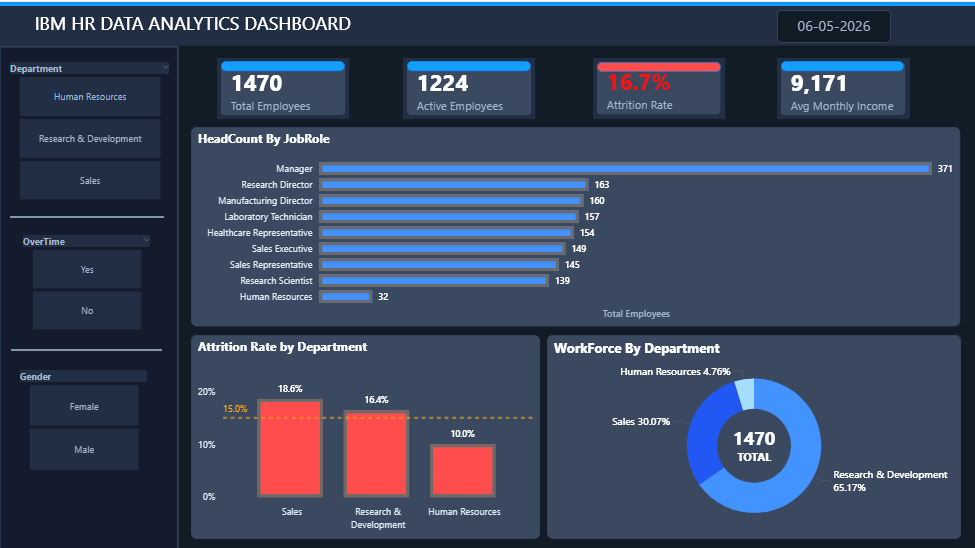

What the dashboard file says about the page in this screenshot:
{"tool":"powerbi","page":{"name":"Page 1","canvas":[1280,720],"ordinal":0},"visuals":[{"type":"donutChart","title":"WorkForce By Department","fields":{"Category":["IBM_HR_Analytics.Department"],"Y":["IBM_HR_Analytics.Total Employees"]},"box":[717,437,542,267],"z":0},{"type":"clusteredBarChart","title":"HeadCount By JobRole","fields":{"Category":["IBM_HR_Analytics.JobRole"],"Y":["IBM_HR_Analytics.Total Employees"]},"box":[251.8,165.5,1007.3,260.9],"z":1000},{"type":"clusteredColumnChart","fields":{"Category":["IBM_HR_Analytics.Department"],"Y":["IBM_HR_Analytics.Attrition Rate"]},"box":[251.8,437.3,457.3,267.3],"z":2000},{"type":"shape","box":[0,0,1280.2,11.5],"z":3000},{"type":"textbox","box":[0,6,1280,52],"z":4000},{"type":"textbox","box":[1018.5,11.8,149.2,43.2],"z":5000},{"type":"textbox","box":[938.6,550,100,70],"z":6000},{"type":"shape","box":[0,58.3,235,661.7],"z":7000},{"type":"cardVisual","fields":{"Data":["IBM_HR_Analytics.Total Employees"]},"box":[285,75,173.3,80],"z":8000},{"type":"shape","box":[290,78.6,162.1,13.6],"z":9000},{"type":"cardVisual","fields":{"Data":["IBM_HR_Analytics.Active Employees"]},"box":[528.3,75,173.3,80],"z":10000},{"type":"cardVisual","fields":{"Data":["IBM_HR_Analytics.Attrition Rate"]},"box":[777.6,74.6,172.8,79.9],"z":11000},{"type":"cardVisual","fields":{"Data":["IBM_HR_Analytics.Avg Monthly Income"]},"box":[1018.6,75,173.6,80],"z":12000},{"type":"shape","box":[14.4,267.1,201.6,31.4],"z":13000},{"type":"slicer","fields":{"Values":["IBM_HR_Analytics.OverTime"]},"box":[18.3,301.1,192.4,136.1],"z":14000},{"type":"shape","box":[15.7,437.2,197.7,39.3],"z":15000},{"type":"slicer","fields":{"Values":["IBM_HR_Analytics.Department"]},"box":[1.3,74.6,234.3,192.4],"z":16000},{"type":"shape","box":[533.6,78.6,162.1,13.6],"z":17000},{"type":"shape","box":[782.8,79.9,162.3,13.1],"z":18000},{"type":"shape","box":[1024.3,78.6,160.7,13.6],"z":19000},{"type":"slicer","fields":{"Values":["IBM_HR_Analytics.Gender"]},"box":[14.4,477.8,192.4,142.7],"z":20000}]}

Visuals, with their boxes in screenshot pixels (x1, y1, x2, y2), scaled from the page's 1280x720 canvas onto the 975x548 screenshot:
"WorkForce By Department" donutChart: box(546, 333, 959, 536)
"HeadCount By JobRole" clusteredBarChart: box(192, 126, 959, 325)
clusteredColumnChart - IBM_HR_Analytics.Department x IBM_HR_Analytics.Attrition Rate: box(192, 333, 540, 536)
shape: box(0, 0, 974, 9)
textbox: box(0, 5, 974, 44)
textbox: box(776, 9, 889, 42)
textbox: box(715, 419, 791, 472)
shape: box(0, 44, 179, 547)
cardVisual - IBM_HR_Analytics.Total Employees: box(217, 57, 349, 118)
shape: box(221, 60, 344, 70)
cardVisual - IBM_HR_Analytics.Active Employees: box(402, 57, 534, 118)
cardVisual - IBM_HR_Analytics.Attrition Rate: box(592, 57, 724, 118)
cardVisual - IBM_HR_Analytics.Avg Monthly Income: box(776, 57, 908, 118)
shape: box(11, 203, 165, 227)
slicer - IBM_HR_Analytics.OverTime: box(14, 229, 160, 333)
shape: box(12, 333, 163, 363)
slicer - IBM_HR_Analytics.Department: box(1, 57, 179, 203)
shape: box(406, 60, 530, 70)
shape: box(596, 61, 720, 71)
shape: box(780, 60, 903, 70)
slicer - IBM_HR_Analytics.Gender: box(11, 364, 158, 472)
